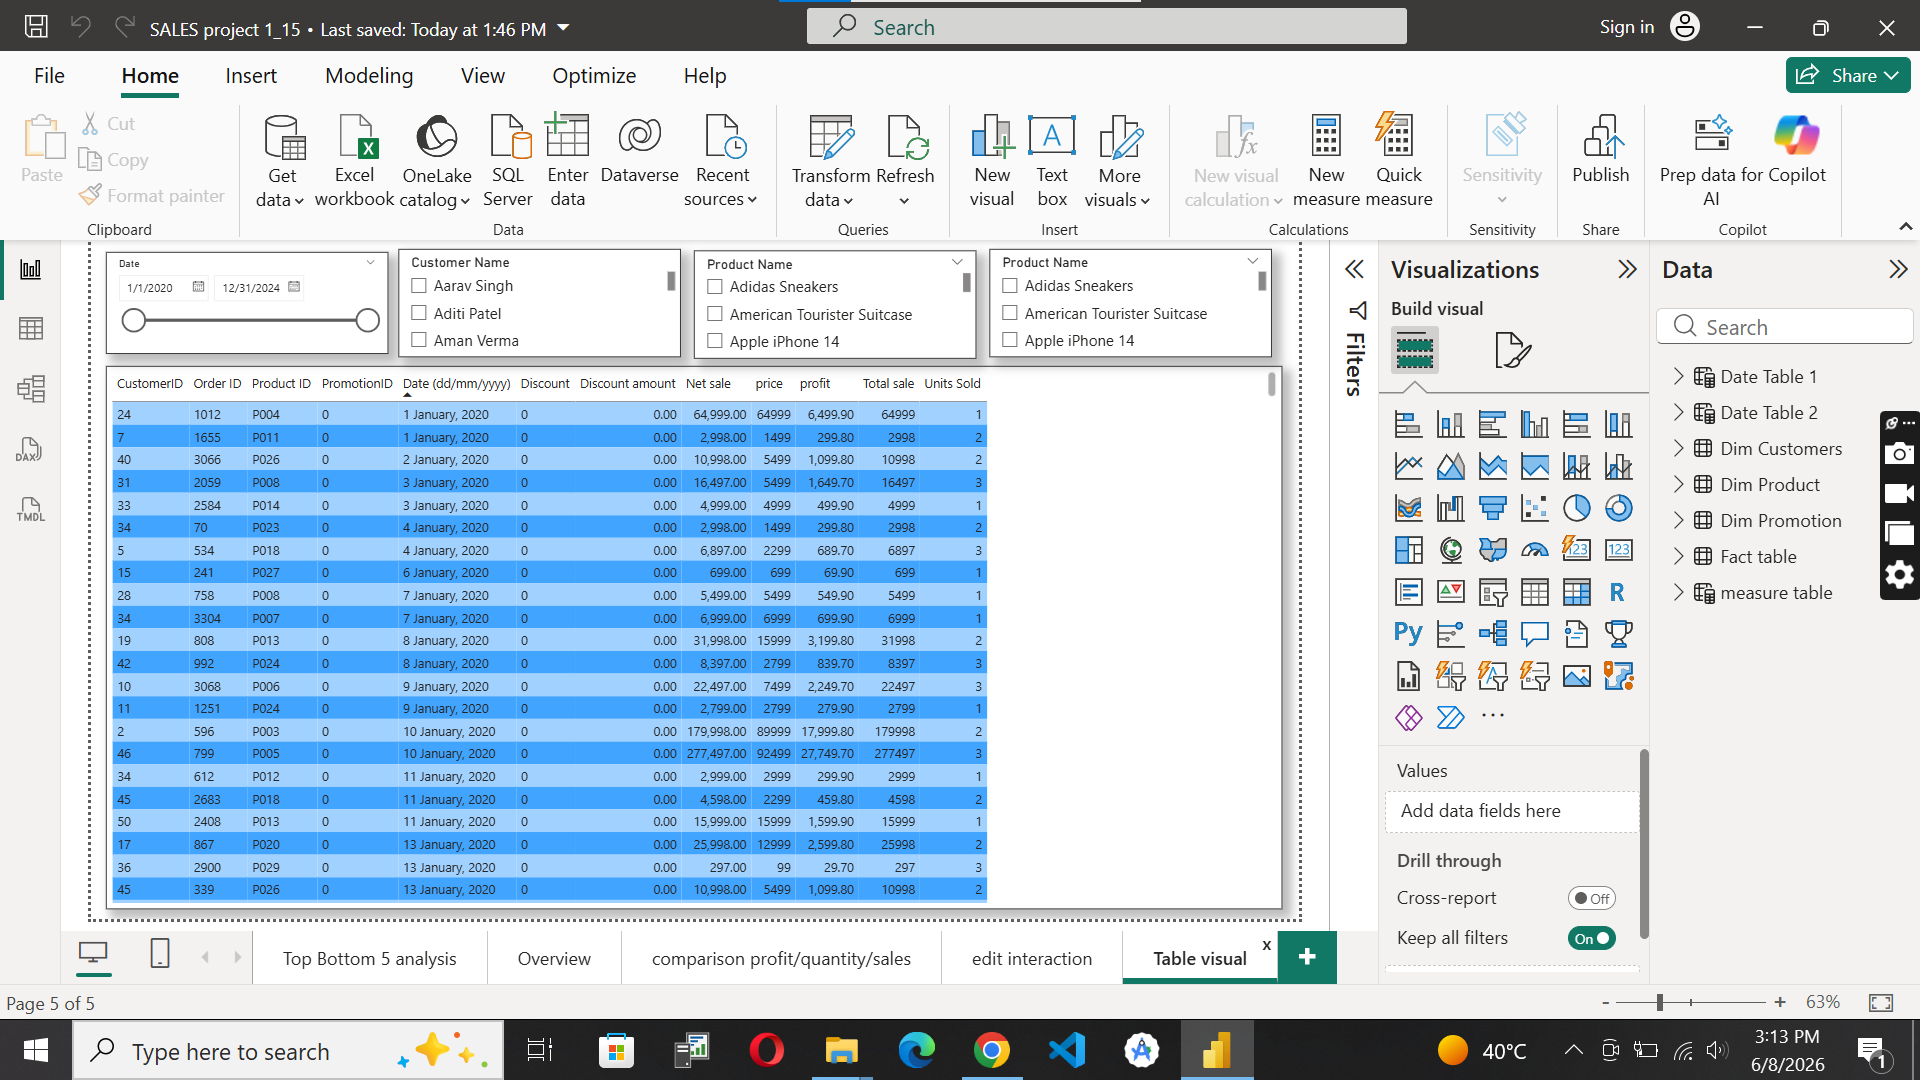

The dashboard page shown, as its layout file describes it:
{"tool":"powerbi","page":{"name":"Table visual","canvas":[1280,720],"ordinal":4},"visuals":[{"type":"tableEx","fields":{"Values":["Fact table.CustomerID","Fact table.Order ID","Fact table.Product ID","Fact table.PromotionID","Fact table.Date (dd/mm/yyyy)","Fact table.Discount","Fact table.Discount amount","Fact table.Net sale","Fact table.price","Fact table.profit","Fact table.Total sale","Fact table.Units Sold"]},"box":[15.9,133.6,1247,575.8],"z":0},{"type":"slicer","fields":{"Values":["Date Table 1.Date"]},"box":[15.9,12.7,299,108.2],"z":1000},{"type":"slicer","fields":{"Values":["Dim Customers.Customer Name"]},"box":[326.1,9.5,299,114.5],"z":2000},{"type":"slicer","fields":{"Values":["Dim Product.Product Name"]},"box":[639.4,11.1,299,114.5],"z":3000},{"type":"slicer","fields":{"Values":["Dim Product.Product Name"]},"box":[952.8,9.5,299,114.5],"z":4000}]}

Visuals, with their boxes on the page's 1280x720 design canvas (x1, y1, x2, y2). These are canvas units, not pixel positions in the 1920x1080 screenshot, which may show the page scaled, cropped or inside an application window:
tableEx - Fact table.CustomerID x Fact table.Order ID: 16,134,1263,709
slicer - Date Table 1.Date: 16,13,315,121
slicer - Dim Customers.Customer Name: 326,10,625,124
slicer - Dim Product.Product Name: 639,11,938,126
slicer - Dim Product.Product Name: 953,10,1252,124
